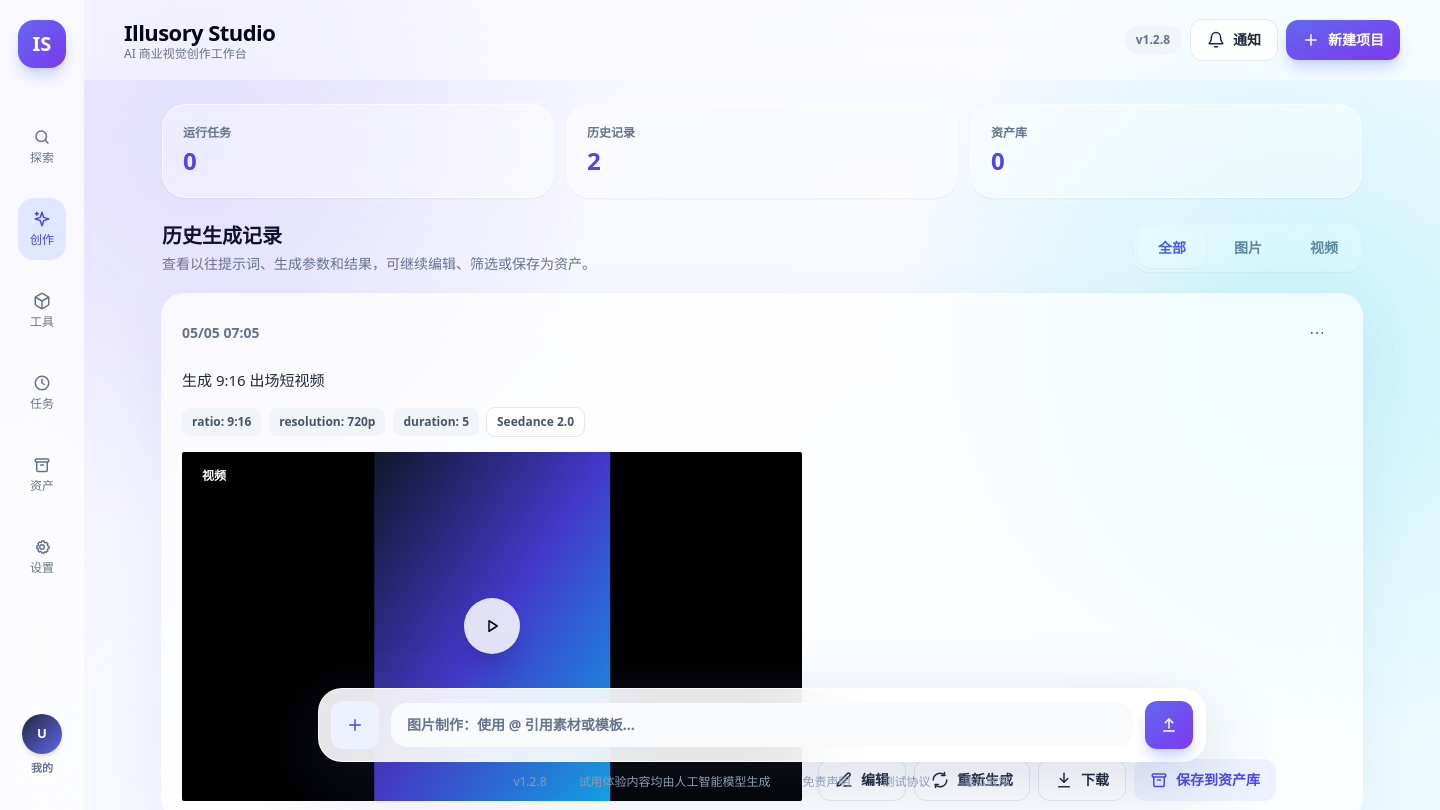
Illusory Studio API driven UI › opens composer from collapsed dock and toggles composer controls
This screenshot has width=1440, height=810.
Click the button "图片制作：使用 @ 引用素材或模板...".
click(521, 724)  # box [391,703,1133,747]
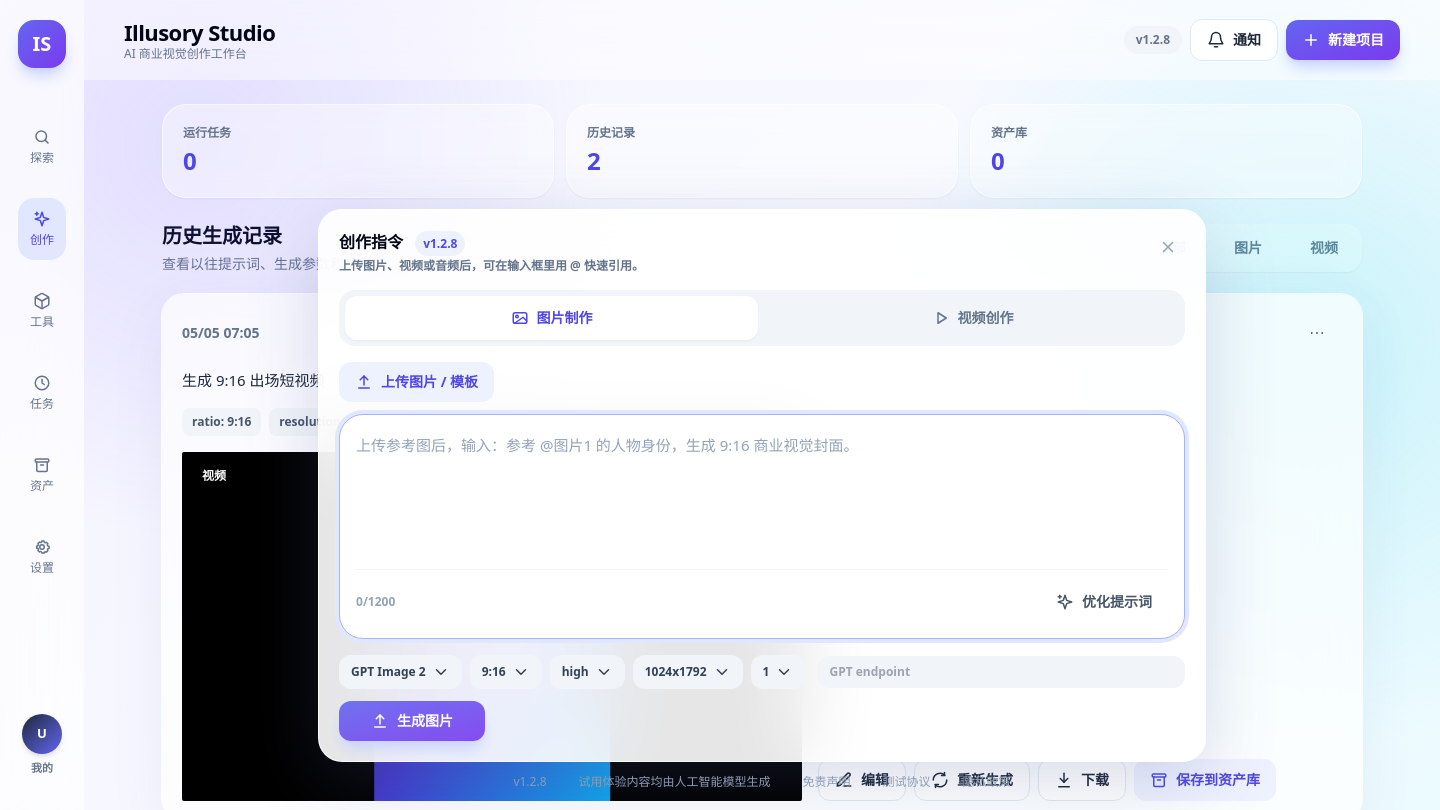
Expected: the heading "创作指令 v1.2.8" is shown, [339,231,465,256]
Click the button "视频创作".
click(972, 318)  # box [766,296,1179,340]
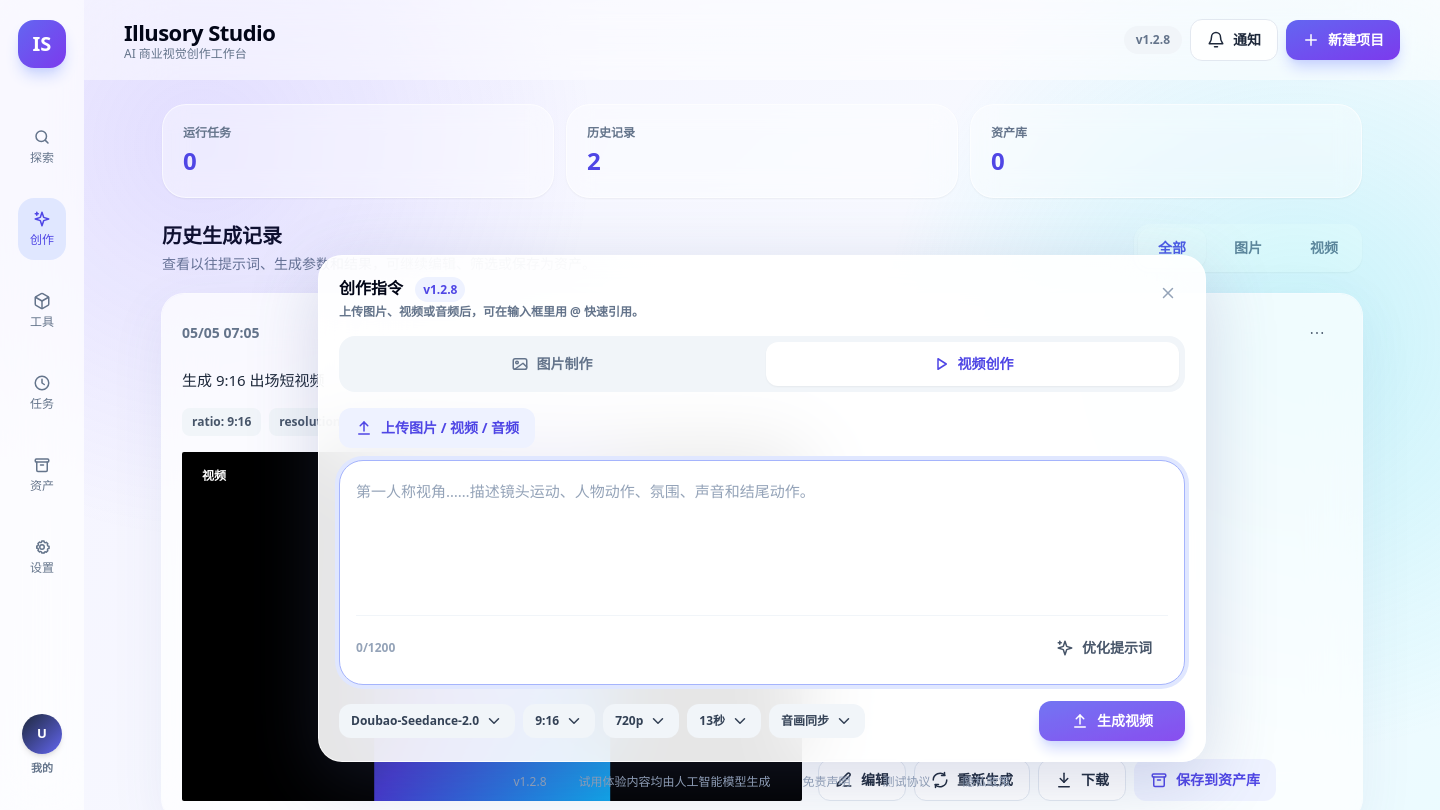
Expected: the button "Doubao-Seedance-2.0" is shown, [339,704,515,738]
Expected: the button "13秒" is shown, [687,704,761,738]
Click the button "图片制作".
click(552, 364)  # box [345,342,758,386]
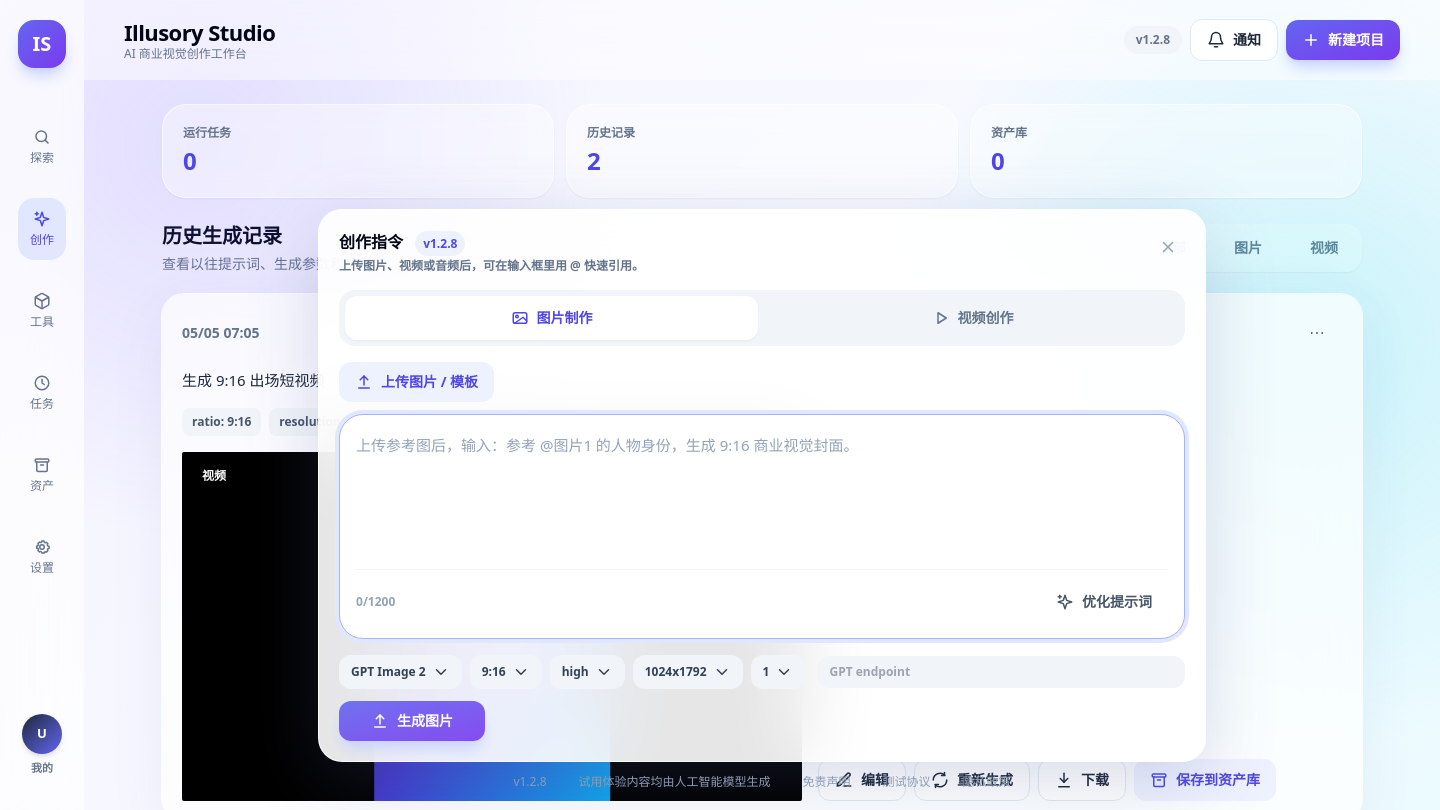
Expected: the button "GPT Image 2" is shown, [339,655,462,689]
